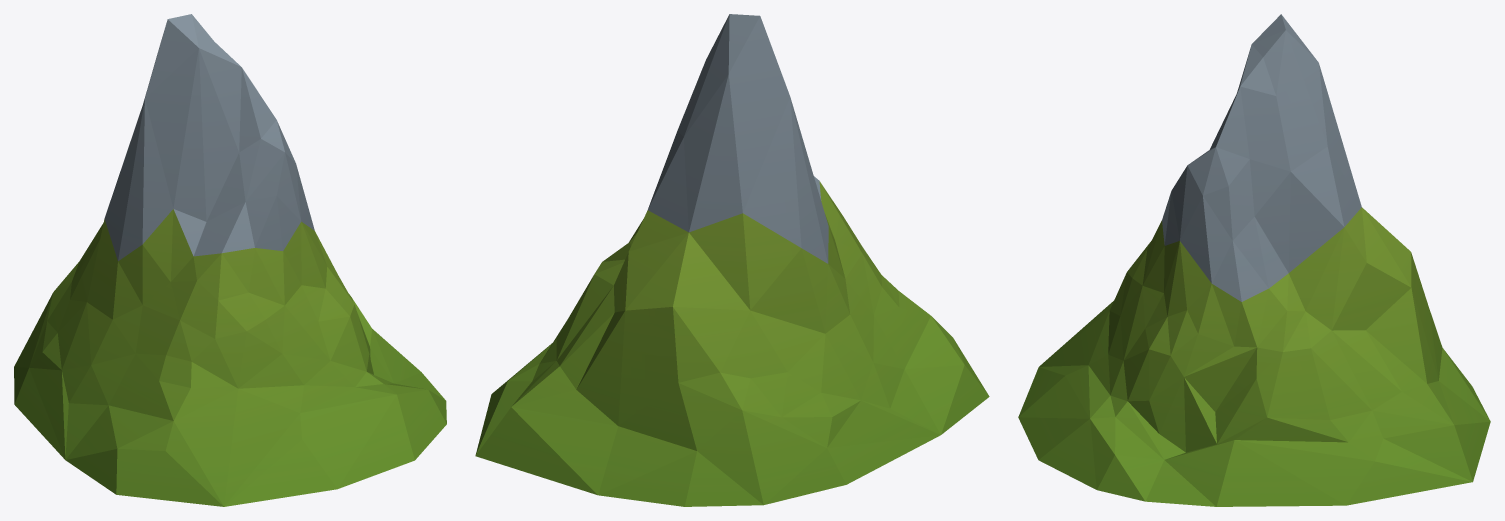
The model's file is Mountain_05.fbx.
3 views of the same model, side by side, from view 1: azimuth 30°, elevation 25°; view 2: azimuth 150°, elevation 25°; view 3: azimuth 270°, elevation 25° (orthographic). The views are drawn at different scales.
Parts seen in each view (by area): view 1: Mountain_05; view 2: Mountain_05; view 3: Mountain_05.
Boxes of the visible parts, left/top/right/bottom form: Mountain_05: left=14, top=14, right=446, bottom=506; Mountain_05: left=475, top=14, right=989, bottom=506; Mountain_05: left=1018, top=14, right=1490, bottom=506.
Bounding box in the file's own units: 4399 × 4512 × 5024.
